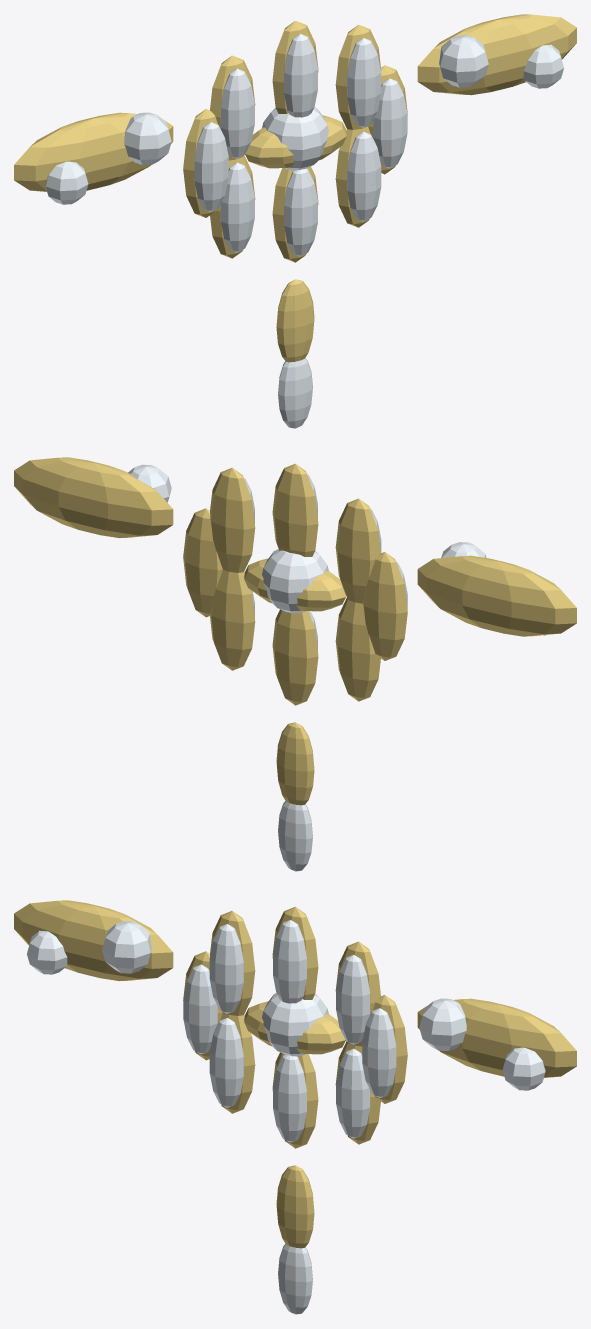
The model's file is necklace-tryon.glb.
3 views of the same model, one above another, from view 1: azimuth 30°, elevation 25°; view 2: azimuth 150°, elevation 25°; view 3: azimuth 330°, elevation 25° (orthographic).
Visible parts, largest first — view 1: necklace-tryon; view 2: necklace-tryon; view 3: necklace-tryon.
Part boxes in pixels (x1,y1,x2,y2): necklace-tryon: (14, 14, 576, 428); necklace-tryon: (14, 457, 576, 871); necklace-tryon: (14, 900, 576, 1314).
Size of the model in its own units: 39.06 by 27.06 by 4.7.
